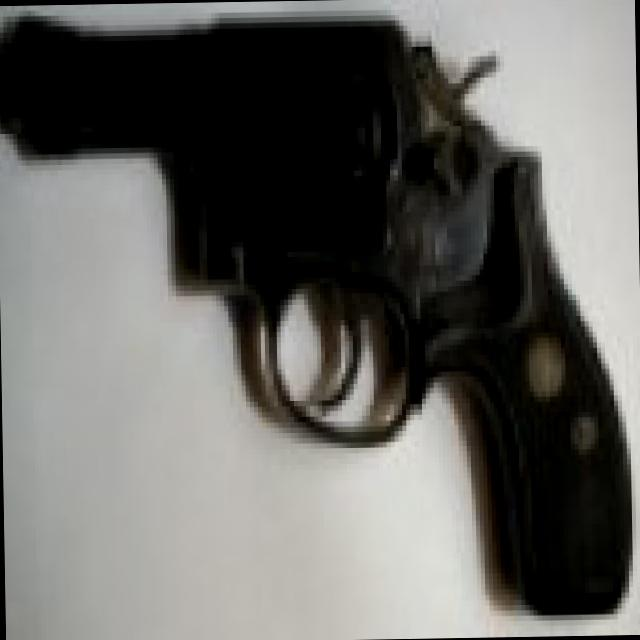handgun: (0, 5, 629, 603)
